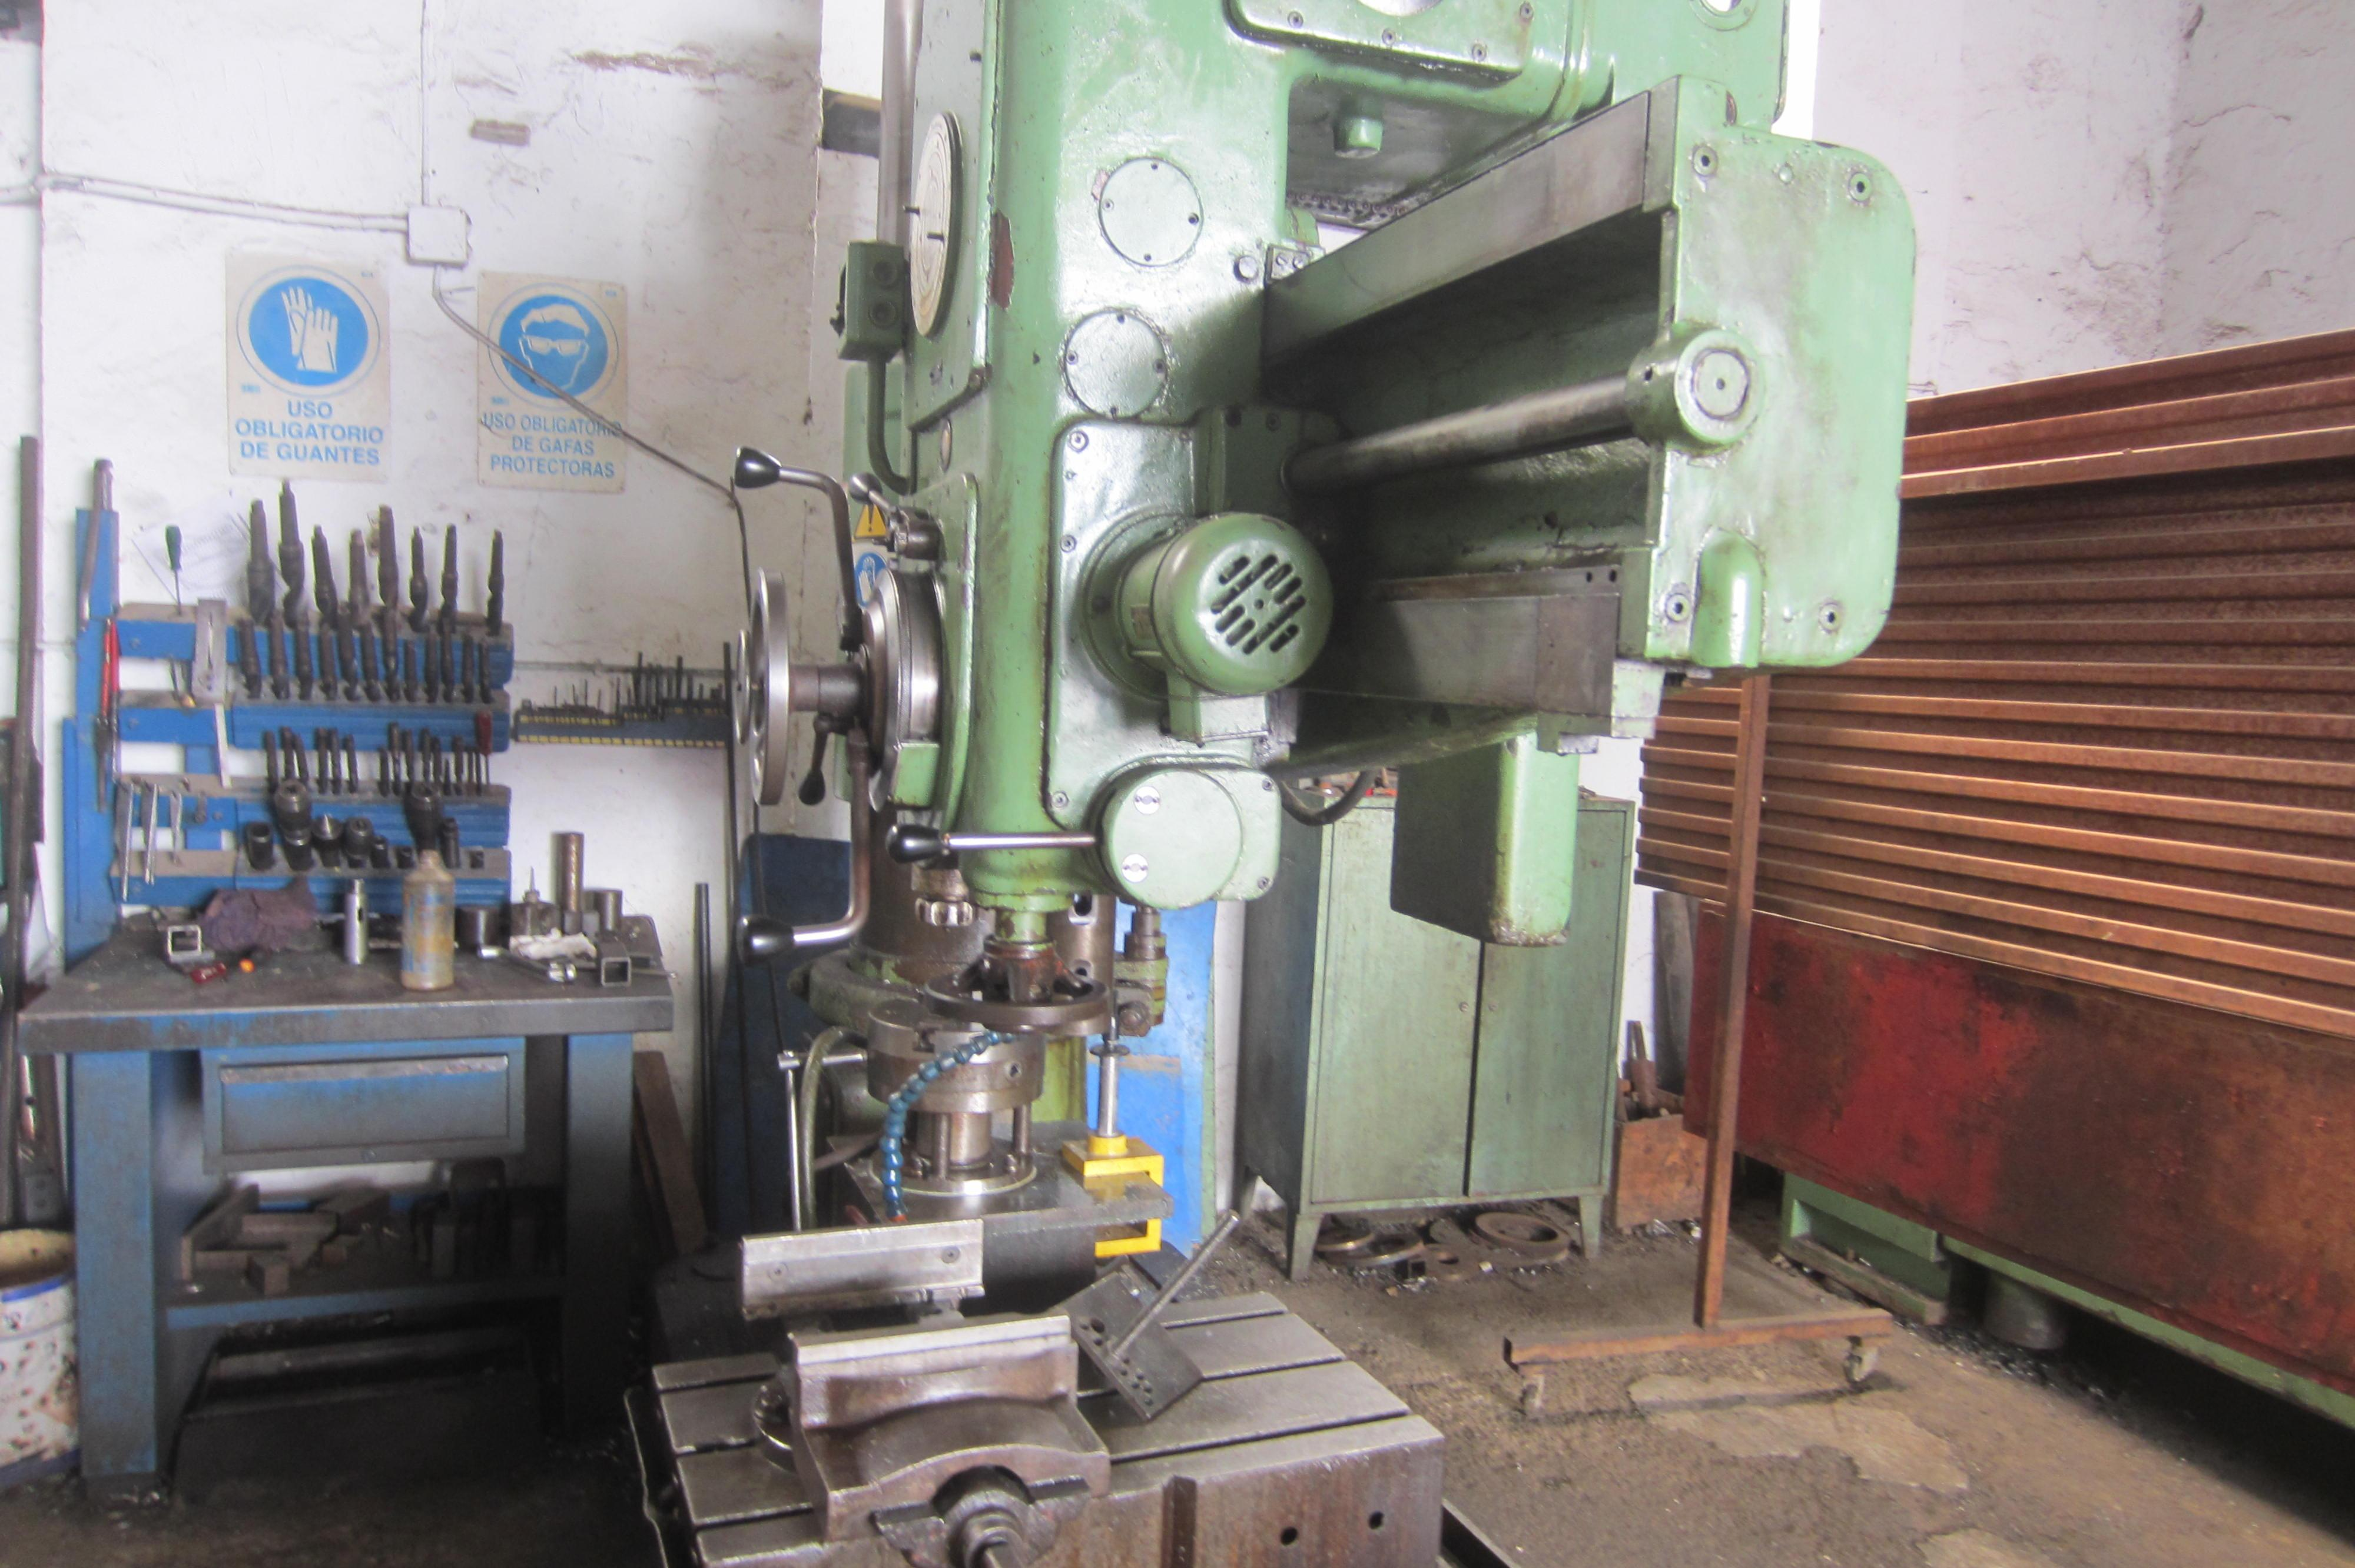falta_resguardo: (1043, 887, 1120, 1038)
sin_indicador_emergencia: (1088, 26, 1253, 203)
